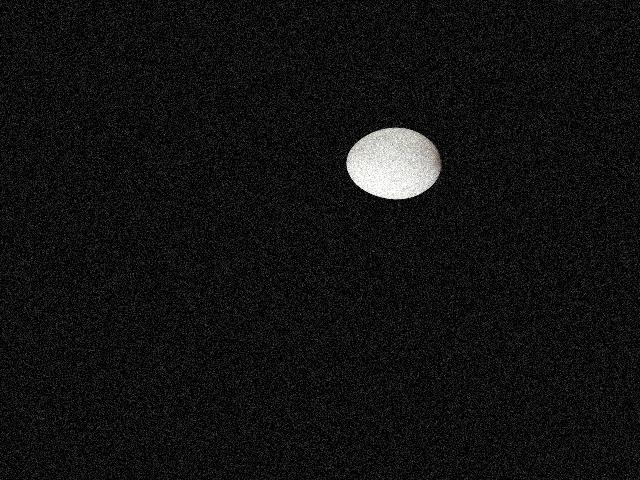egg: (346, 128, 441, 200)
